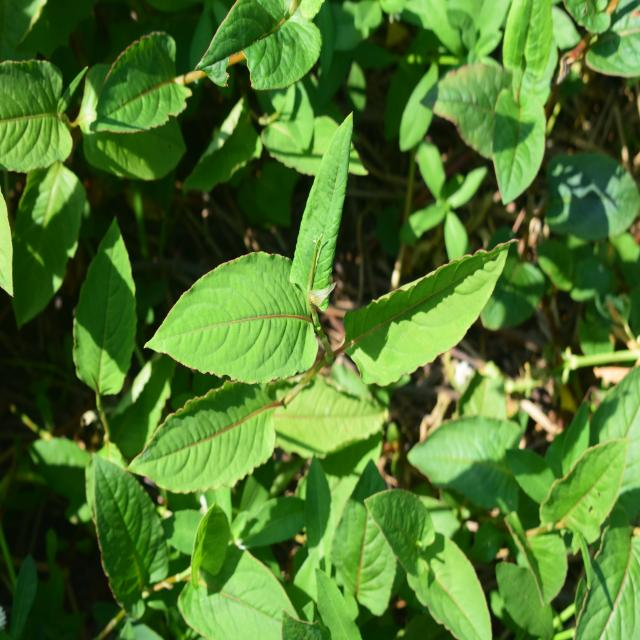Chinese_knotweed: (147, 164, 492, 461)
